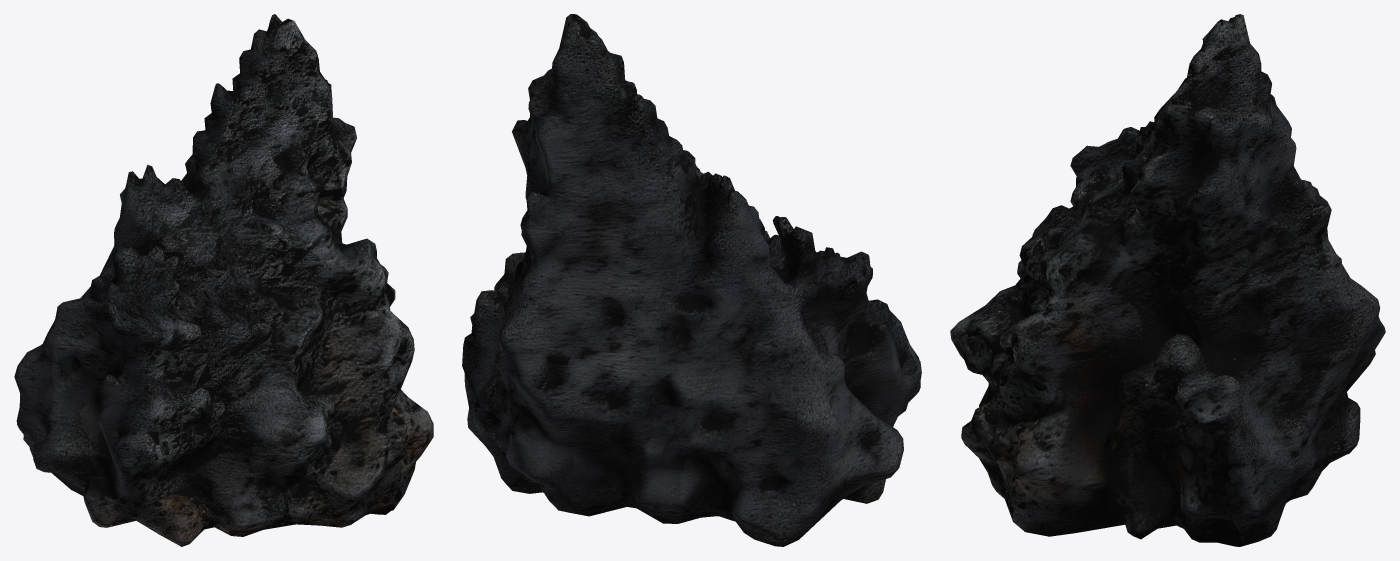
File: selected.glb
The picture shows the model from 3 angles, left to right: view 1: azimuth 30°, elevation 25°; view 2: azimuth 150°, elevation 25°; view 3: azimuth 270°, elevation 25°; orthographic projection. The views are drawn at different scales.
Parts seen in each view (by area): view 1: tripo_node_a2f37da6-634e-47e5-b642-c77d2c17bae2; view 2: tripo_node_a2f37da6-634e-47e5-b642-c77d2c17bae2; view 3: tripo_node_a2f37da6-634e-47e5-b642-c77d2c17bae2.
Boxes of the visible parts, left/top/right/bottom form: tripo_node_a2f37da6-634e-47e5-b642-c77d2c17bae2: left=14, top=14, right=433, bottom=546; tripo_node_a2f37da6-634e-47e5-b642-c77d2c17bae2: left=462, top=14, right=921, bottom=546; tripo_node_a2f37da6-634e-47e5-b642-c77d2c17bae2: left=950, top=14, right=1385, bottom=546.
Bounding box in the file's own units: 0.8787 × 1 × 0.773.
1 material, 1 textured.
